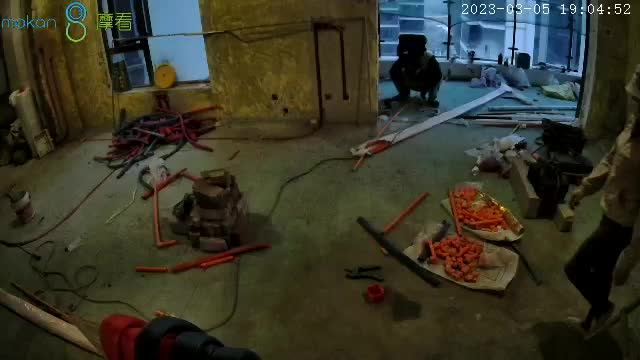people: (390, 44, 442, 107)
window: (379, 1, 585, 68), (114, 1, 203, 84)
